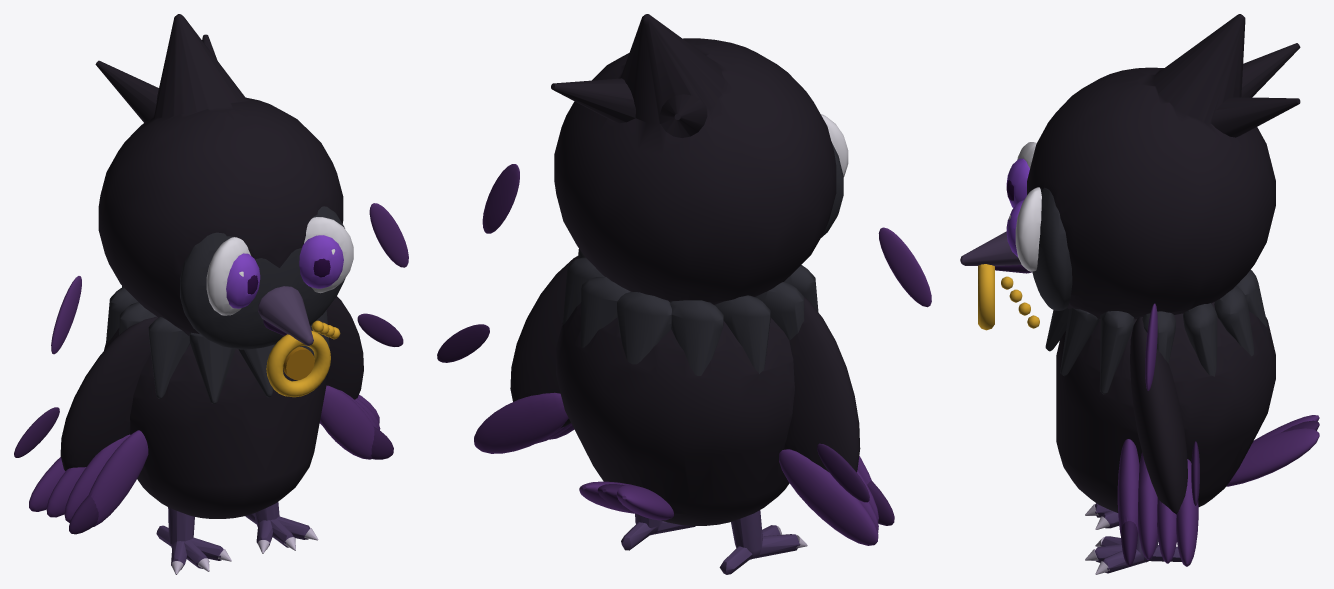
Rendered from corvlet.glb.
3 views of the same model, side by side, from view 1: azimuth 30°, elevation 25°; view 2: azimuth 150°, elevation 25°; view 3: azimuth 270°, elevation 25° (orthographic). The views are drawn at different scales.
Visible parts, largest first — view 1: creature; view 2: creature; view 3: creature.
Boxes of the visible parts, x1,y1,x2,y2 form: creature: [14, 14, 408, 574]; creature: [437, 14, 931, 574]; creature: [960, 14, 1319, 574].
Size of the model in its own units: 0.8276 by 1 by 0.6217.
